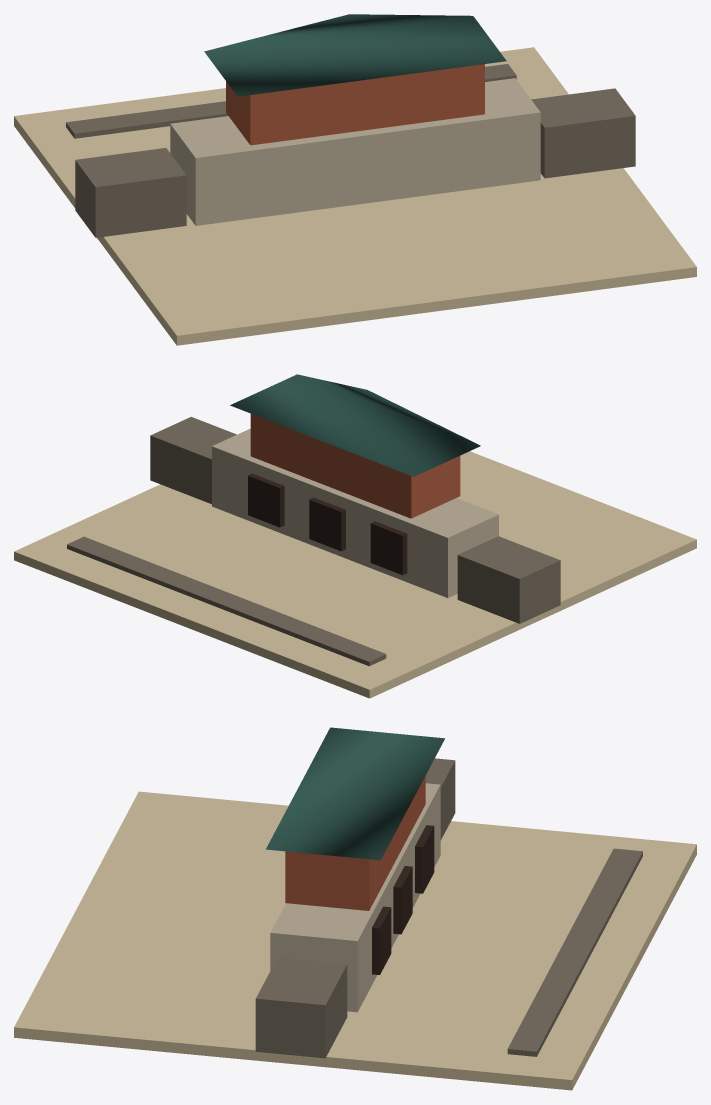
Rendered from model-medium.glb.
3 views of the same model, one above another, from view 1: azimuth 30°, elevation 25°; view 2: azimuth 150°, elevation 25°; view 3: azimuth 270°, elevation 25° (orthographic). The views are drawn at different scales.
Visible parts, largest first — view 1: context_site_plinth, city_gate_platform, side_wall_segment (×2), gatehouse_roof, upper_gatehouse_body, front_scale_strip; view 2: context_site_plinth, city_gate_platform, gatehouse_roof, side_wall_segment (×2), upper_gatehouse_body, front_scale_strip, arched_gate_opening (×3); view 3: context_site_plinth, gatehouse_roof, side_wall_segment (×2), city_gate_platform, front_scale_strip, upper_gatehouse_body, arched_gate_opening (×3).
Part boxes in pixels (bbox=[...]): context_site_plinth: bbox=[14, 47, 696, 345]; city_gate_platform: bbox=[170, 78, 540, 225]; side_wall_segment (×2): bbox=[75, 88, 635, 237]; gatehouse_roof: bbox=[204, 14, 506, 96]; upper_gatehouse_body: bbox=[226, 64, 484, 145]; front_scale_strip: bbox=[66, 64, 516, 138]; context_site_plinth: bbox=[14, 451, 696, 698]; city_gate_platform: bbox=[212, 428, 498, 597]; gatehouse_roof: bbox=[230, 374, 480, 476]; side_wall_segment (×2): bbox=[150, 416, 560, 623]; upper_gatehouse_body: bbox=[250, 414, 460, 518]; front_scale_strip: bbox=[67, 536, 386, 666]; arched_gate_opening (×3): bbox=[248, 473, 407, 575]; context_site_plinth: bbox=[14, 791, 696, 1090]; gatehouse_roof: bbox=[266, 727, 444, 860]; side_wall_segment (×2): bbox=[255, 758, 455, 1058]; city_gate_platform: bbox=[270, 783, 440, 1012]; front_scale_strip: bbox=[507, 848, 642, 1056]; upper_gatehouse_body: bbox=[285, 776, 425, 910]; arched_gate_opening (×3): bbox=[372, 825, 434, 974].
Bounding box in the file's own units: 9.55 × 2.9 × 9.55.
